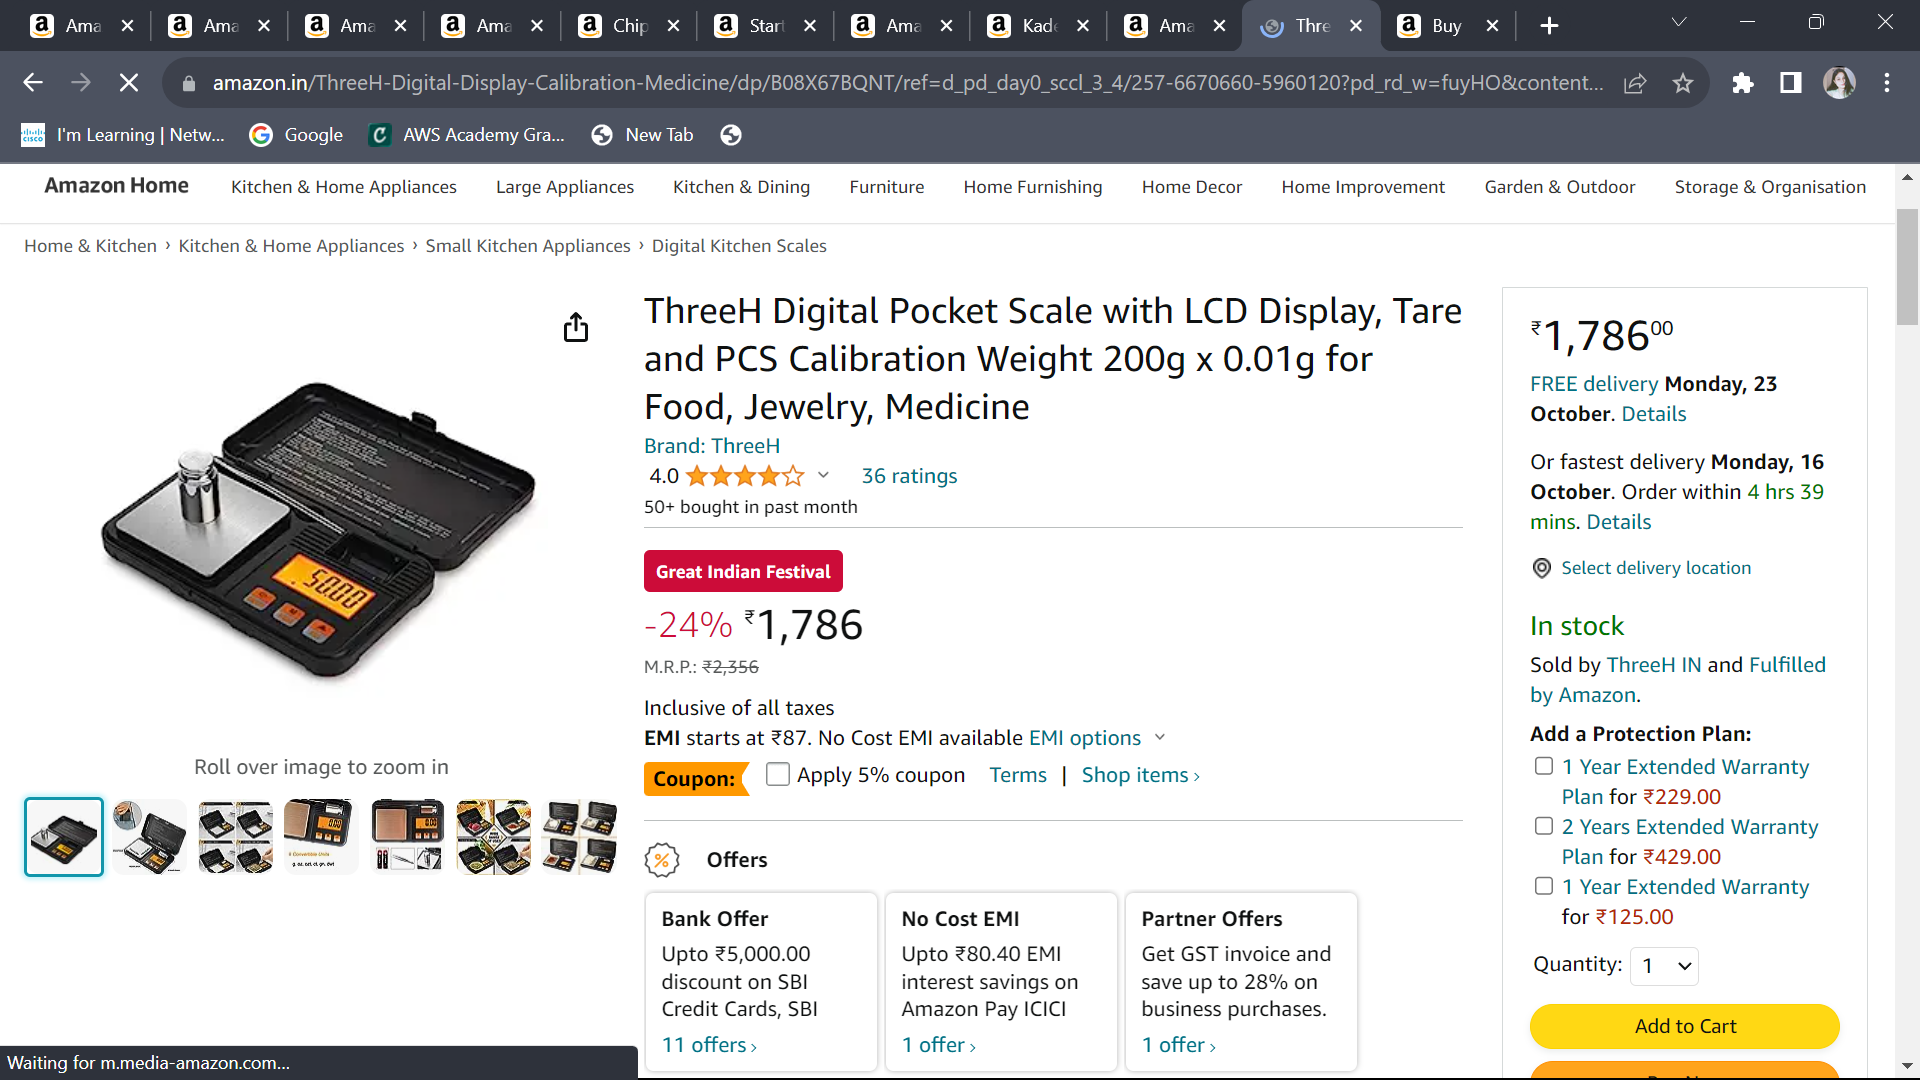Image: (57, 284, 546, 692), (3, 770, 621, 949)
Paragraph: (640, 829, 1382, 1080), (621, 290, 1493, 425), (1514, 720, 1837, 938), (1528, 368, 1875, 541), (1505, 607, 1840, 711), (621, 687, 1176, 746), (645, 433, 997, 522), (642, 758, 1207, 812), (1516, 1004, 1837, 1080), (630, 600, 872, 678), (1532, 543, 1785, 615), (1516, 293, 1714, 364), (1523, 944, 1812, 992)
